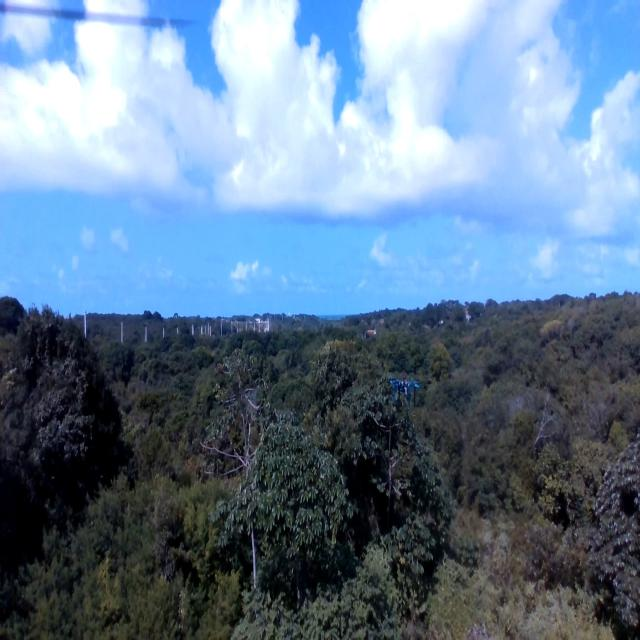-uav-: (378, 362, 427, 429)
